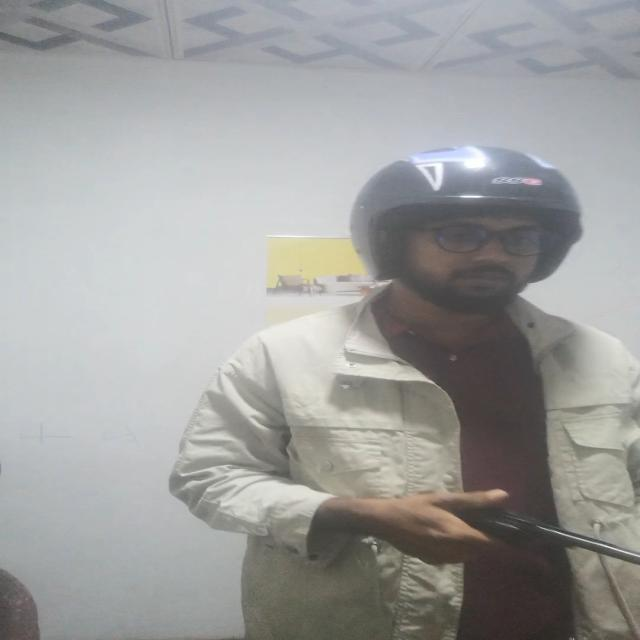Gun_Holder: (395, 489, 640, 578)
Helmet_Wearer: (333, 132, 600, 322)
Jacket_Wearer: (178, 286, 640, 640)
Person: (170, 136, 640, 640)
